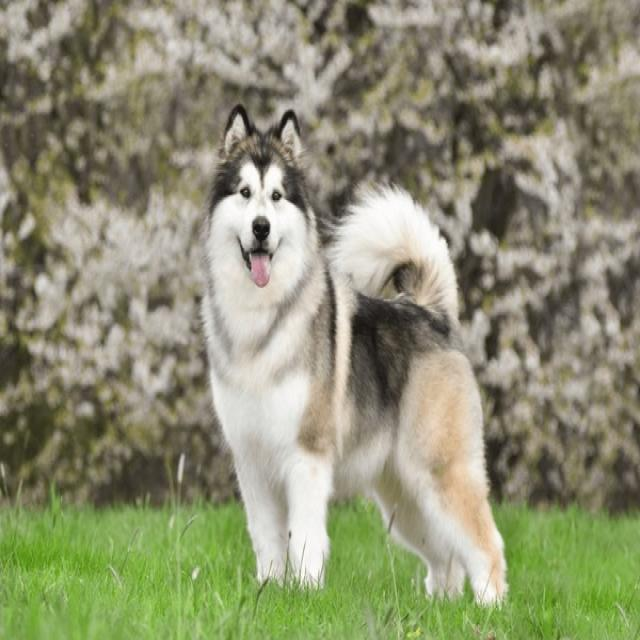ALASKAN_MALAMUTE: (192, 88, 527, 624)
